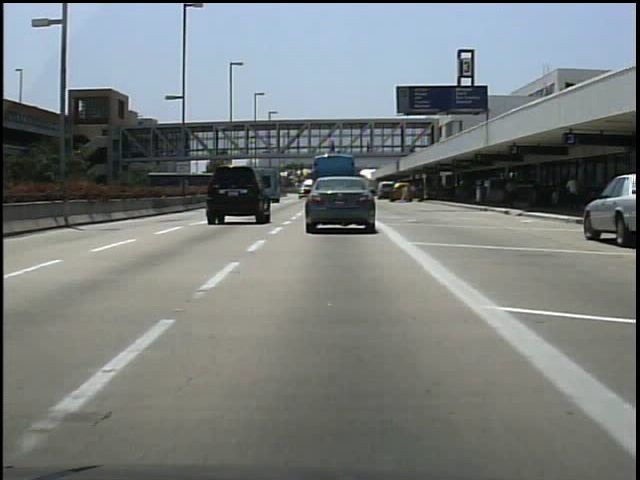person: (562, 171, 582, 213), (501, 175, 520, 212), (413, 179, 429, 205), (401, 179, 416, 206), (363, 138, 376, 160), (327, 135, 340, 155)
